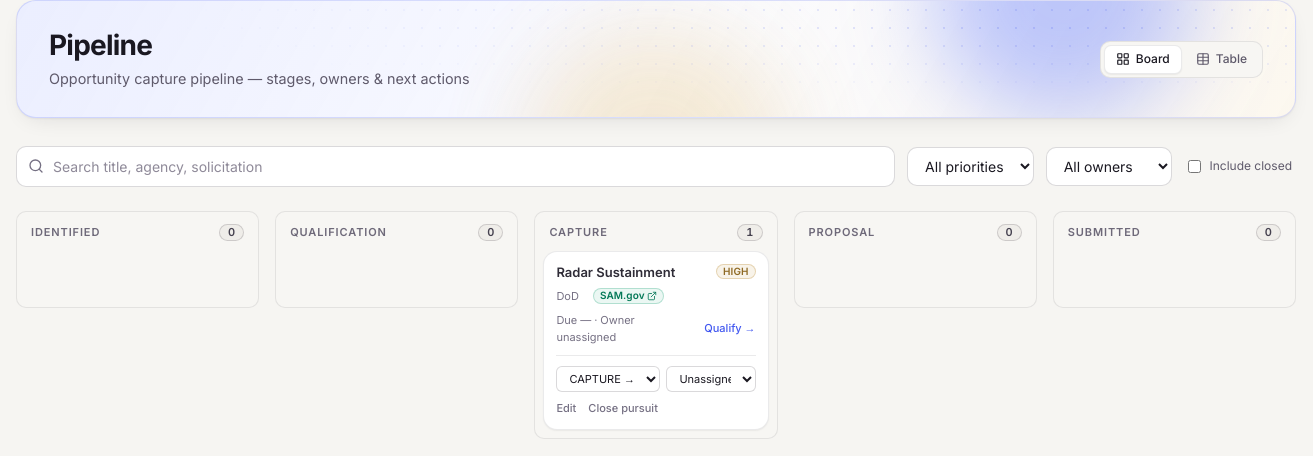
Test: PipelinePage (Section 5.2) › switches to the table view
The image size is (1313, 456).
Expected: the link "Radar Sustainment" is shown, top-left (556, 264), bottom-right (675, 282)
What coordinates should you click on to do the following:
click the button "Table"
I would click on:
 (1221, 59)
Its box is top-left (1184, 44), bottom-right (1259, 74).
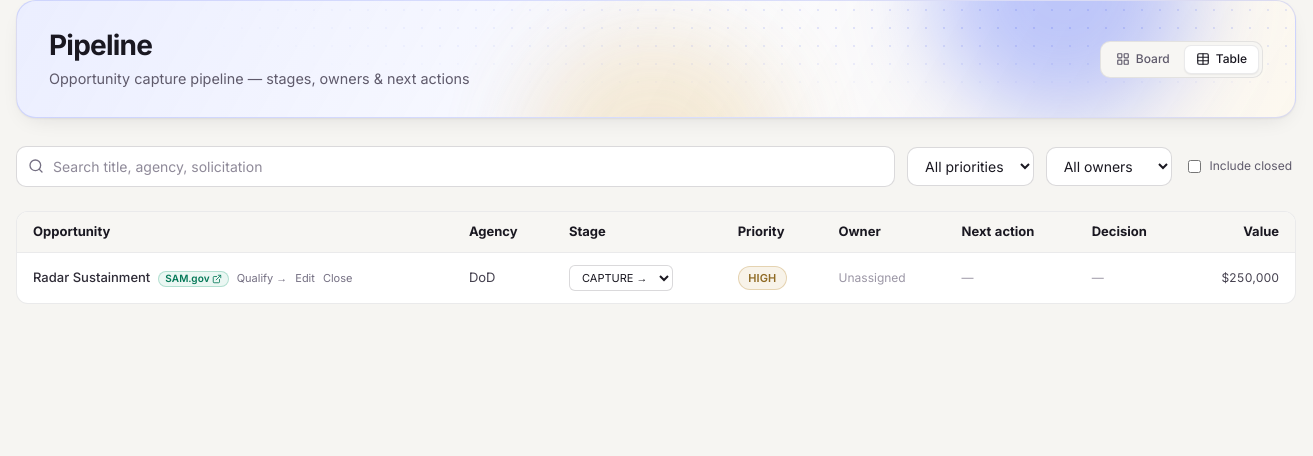
Now the column heading "Next action" is shown, box top-left (946, 212), bottom-right (1076, 253)
